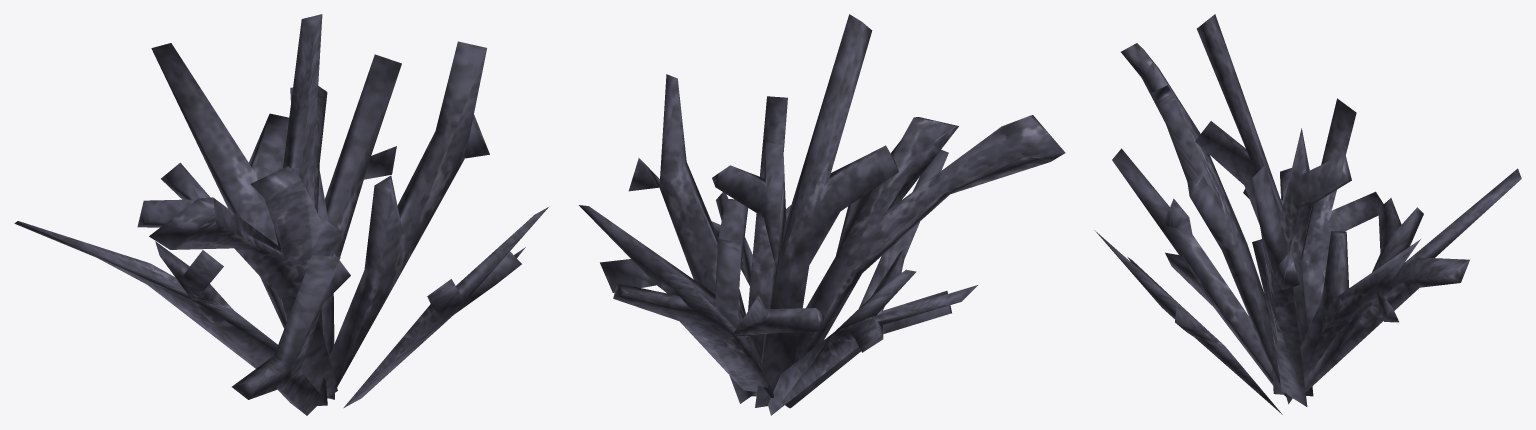
Rendered from SM_Algiae.fbx.
3 views of the same model, side by side, from view 1: azimuth 30°, elevation 25°; view 2: azimuth 150°, elevation 25°; view 3: azimuth 270°, elevation 25° (orthographic). The views are drawn at different scales.
Parts seen in each view (by area): view 1: SM_AlgaeA_LOD1; view 2: SM_AlgaeA_LOD1; view 3: SM_AlgaeA_LOD1.
Part boxes in pixels (x1,y1,x2,y2): SM_AlgaeA_LOD1: (14, 14, 549, 415); SM_AlgaeA_LOD1: (579, 14, 1065, 415); SM_AlgaeA_LOD1: (1094, 14, 1521, 414).
Size of the model in its own units: 65.96 by 63.02 by 66.94.
